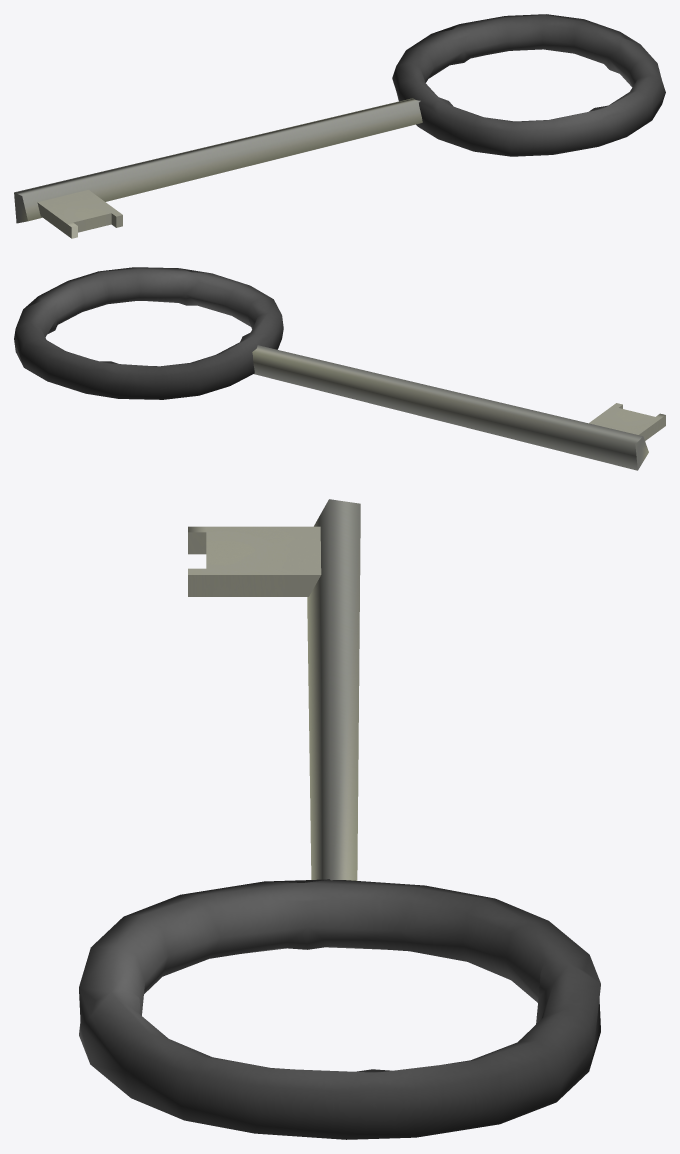
The model's file is Key_1.fbx.
3 views of the same model, one above another, from view 1: azimuth 30°, elevation 25°; view 2: azimuth 150°, elevation 25°; view 3: azimuth 270°, elevation 25° (orthographic). The views are drawn at different scales.
Visible parts, largest first — view 1: Key_1; view 2: Key_1; view 3: Key_1.
Boxes of the visible parts, bbox=[...] form: Key_1: bbox=[14, 14, 665, 238]; Key_1: bbox=[14, 267, 665, 470]; Key_1: bbox=[79, 499, 600, 1139].
Size of the model in its own units: 4.41 by 0.222 by 1.66.
Materials: 1 (1 with a texture image).
